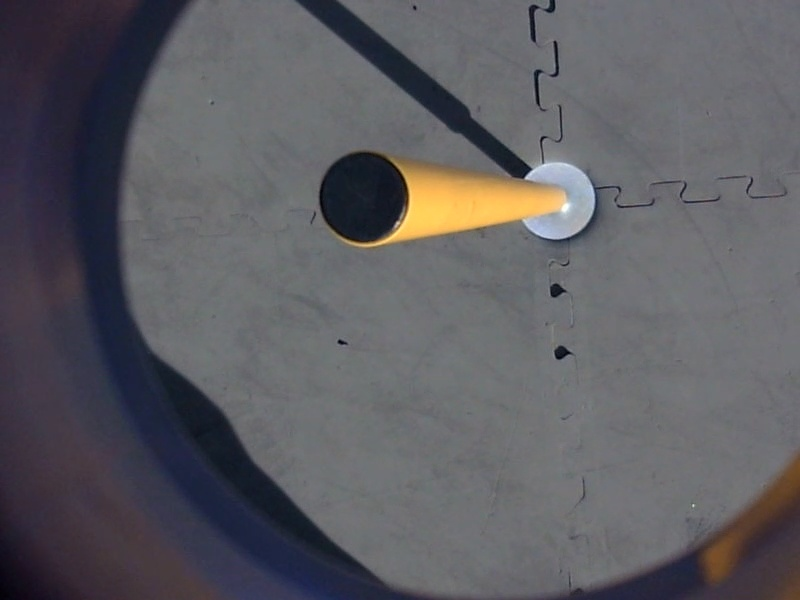tip: (310, 146, 418, 251)
